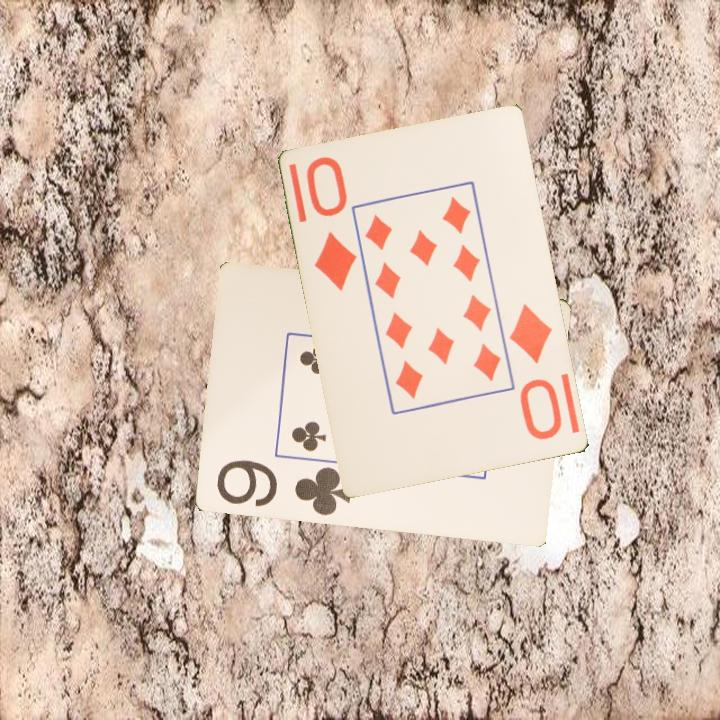10d: (506, 300, 566, 444), (303, 153, 360, 294)
9c: (212, 456, 355, 519)
